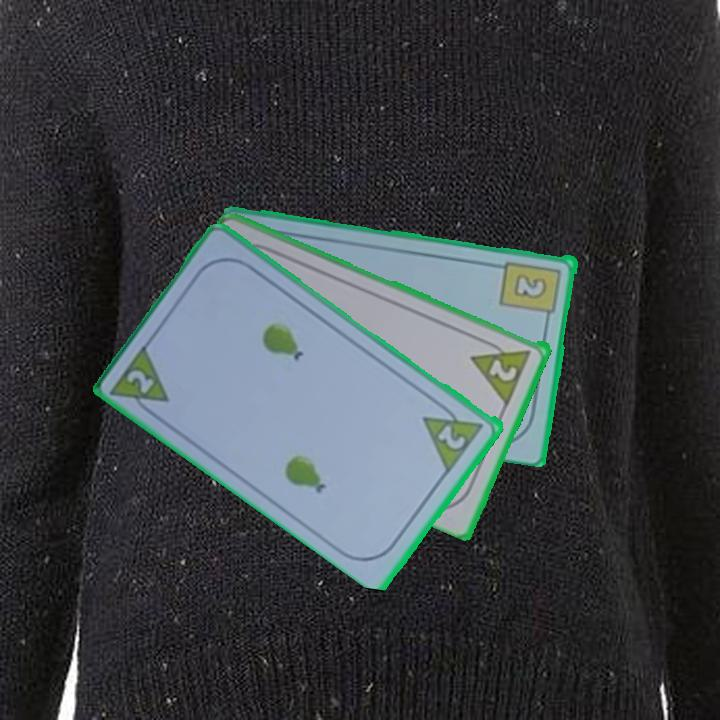2b: (497, 257, 564, 325)
2p: (419, 396, 488, 474), (467, 333, 535, 406), (123, 365, 158, 397)
